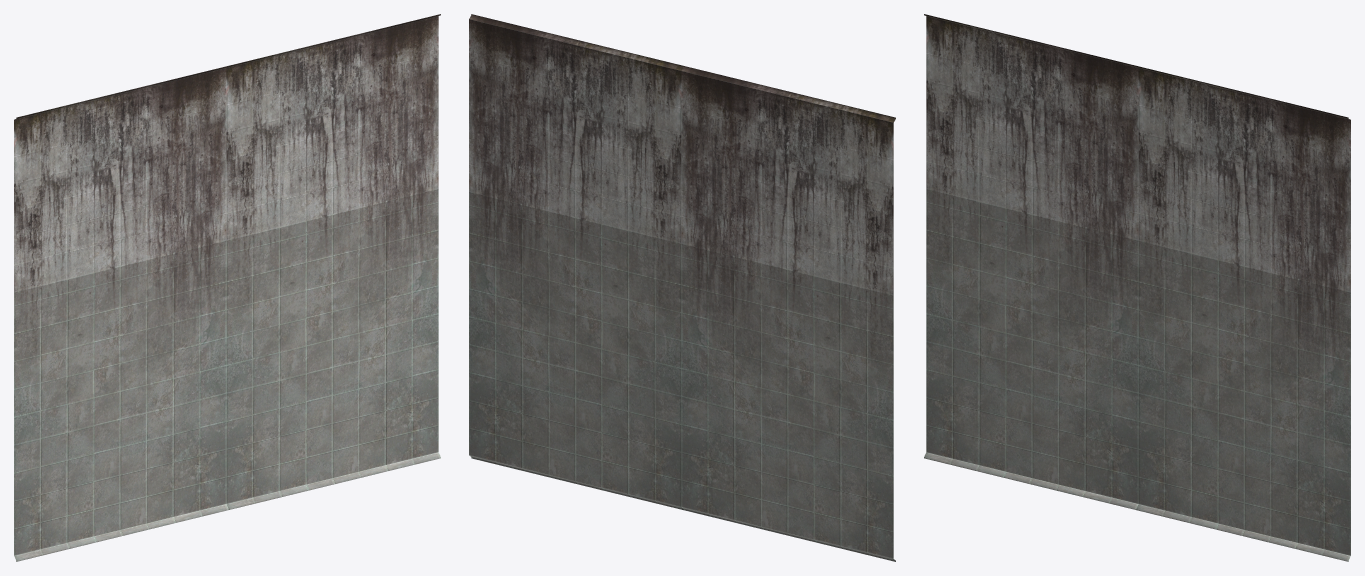
Rendered from bathroom_damaged_flat.dae.
3 renders of one model, left to right at view 1: azimuth 30°, elevation 25°; view 2: azimuth 150°, elevation 25°; view 3: azimuth 330°, elevation 25°, orthographic.
Visible parts, largest first — view 1: polySurface16; view 2: polySurface16; view 3: polySurface16.
Boxes of the visible parts, left/top/right/bottom form: polySurface16: left=14, top=14, right=440, bottom=561; polySurface16: left=469, top=14, right=895, bottom=561; polySurface16: left=924, top=14, right=1350, bottom=561.
Size of the model in its own units: 4 by 4 by 0.0341.
